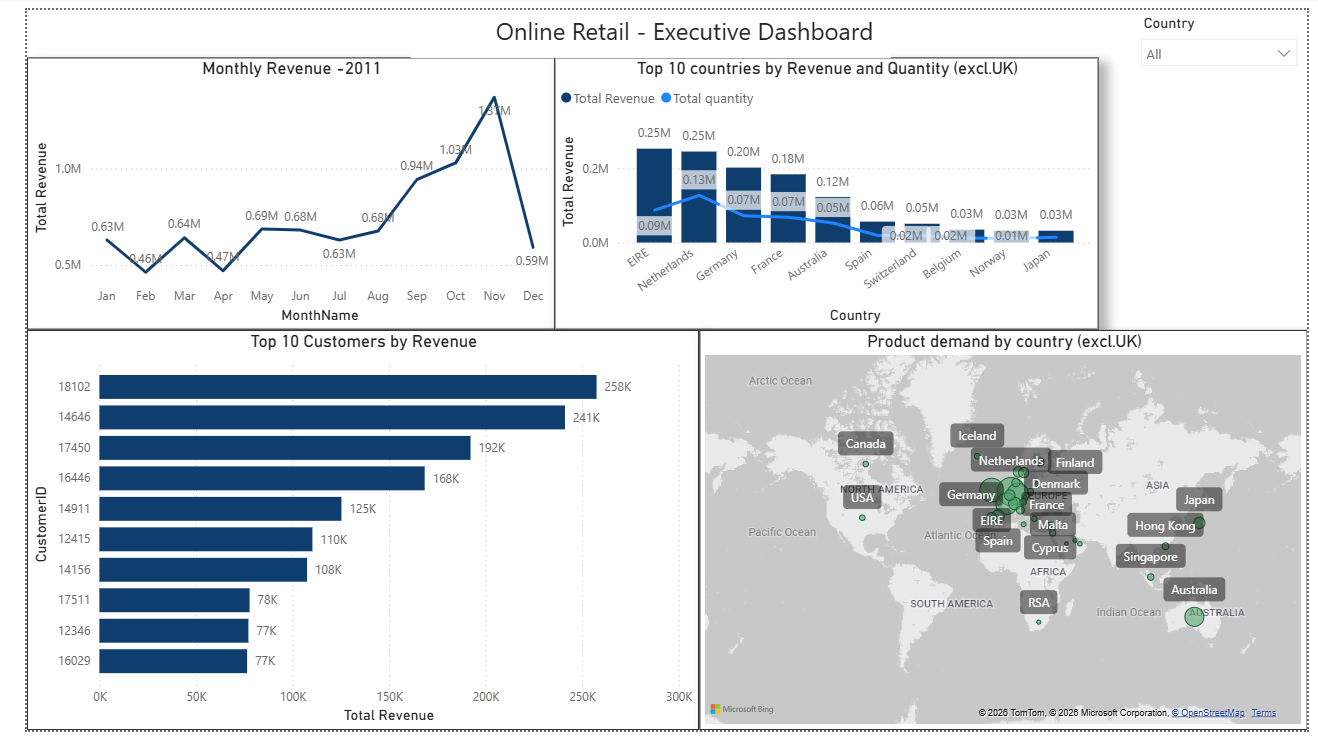

Layout of this report page (visuals, bound fields, positions):
{"tool":"powerbi","page":{"name":"Dashboard","canvas":[1280,720],"ordinal":0},"visuals":[{"type":"lineChart","title":"Monthly Revenue -2011","fields":{"Category":["DateTable.MonthName"],"Y":["Online Retail.Total Revenue"]},"box":[0,48,528,272],"z":0},{"type":"lineClusteredColumnComboChart","title":"Top 10 countries by Revenue and Quantity (excl.UK)","fields":{"Category":["Online Retail.Country"],"Y":["Online Retail.Total Revenue"],"Y2":["Online Retail.Total quantity"]},"box":[528,48,544,272],"z":1000},{"type":"clusteredBarChart","title":"Top 10 Customers by Revenue","fields":{"Category":["Online Retail.CustomerID"],"Y":["Online Retail.Total Revenue"]},"box":[0,320,672,400],"z":2000},{"type":"map","title":"Product demand by country (excl.UK)","fields":{"Category":["Online Retail.Country"],"Size":["Online Retail.Total quantity"]},"box":[672,320,608,400],"z":3000},{"type":"slicer","fields":{"Values":["Online Retail.Country"]},"box":[1104,0,176,64],"z":4000},{"type":"textbox","box":[384,0,480,48],"z":5000}]}

Visuals, with their boxes in screenshot pixels (x1, y1, x2, y2), scaled from the page's 1280x720 canvas onto the 1318x742 screenshot:
"Monthly Revenue -2011" lineChart: crop(0, 49, 544, 330)
"Top 10 countries by Revenue and Quantity (excl.UK)" lineClusteredColumnComboChart: crop(544, 49, 1104, 330)
"Top 10 Customers by Revenue" clusteredBarChart: crop(0, 330, 692, 741)
"Product demand by country (excl.UK)" map: crop(692, 330, 1317, 741)
slicer - Online Retail.Country: crop(1137, 0, 1317, 66)
textbox: crop(395, 0, 890, 49)
